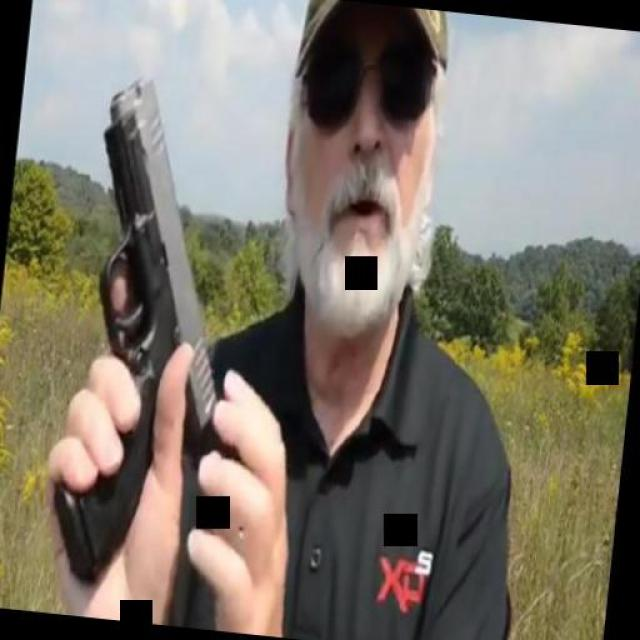gun: (28, 60, 274, 601)
